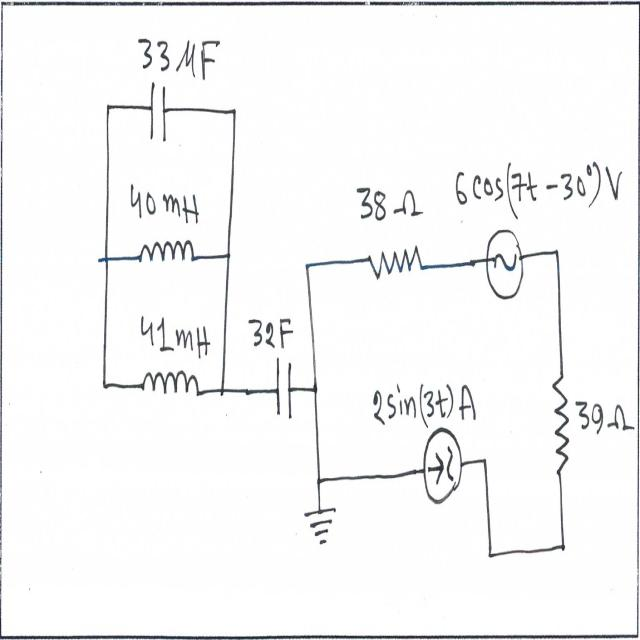ac_current: (479, 218, 528, 310)
capacitor: (270, 344, 298, 427), (148, 76, 168, 153)
current_source: (419, 423, 466, 509)
ground: (295, 502, 344, 556)
inductor: (137, 362, 204, 408), (135, 233, 199, 280)
resistor: (362, 238, 426, 292), (549, 361, 574, 482)
